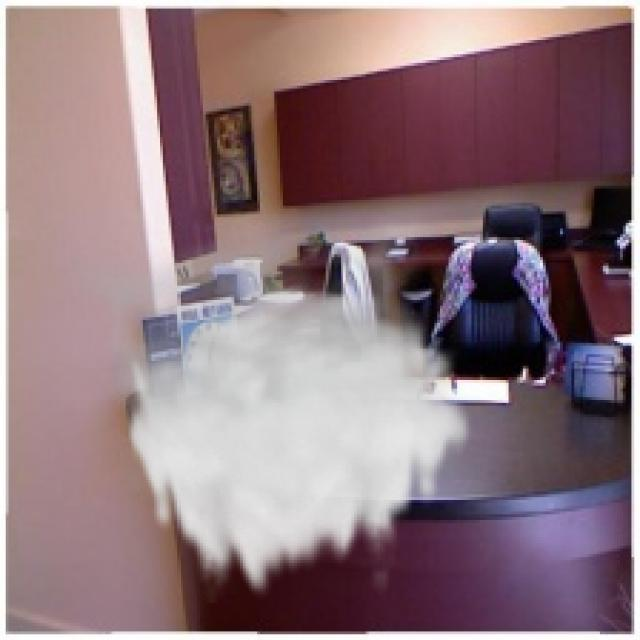Smoke: (52, 208, 474, 603)
